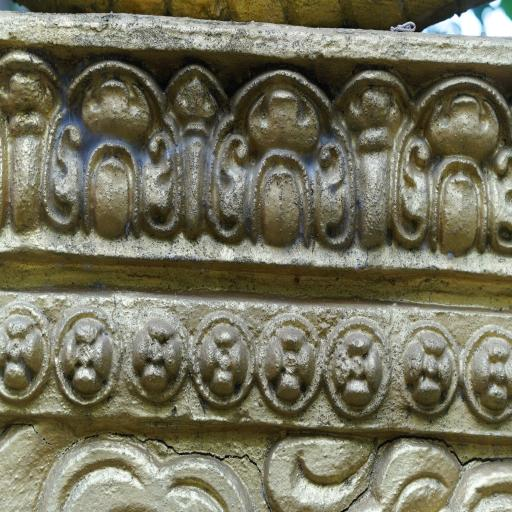hoa: (117, 296, 195, 421), (314, 300, 394, 419), (252, 300, 328, 422), (390, 296, 463, 423), (182, 299, 258, 418), (52, 294, 123, 418), (451, 302, 512, 434), (2, 295, 52, 417)
la: (205, 68, 366, 260), (41, 67, 189, 250), (387, 72, 512, 270)
